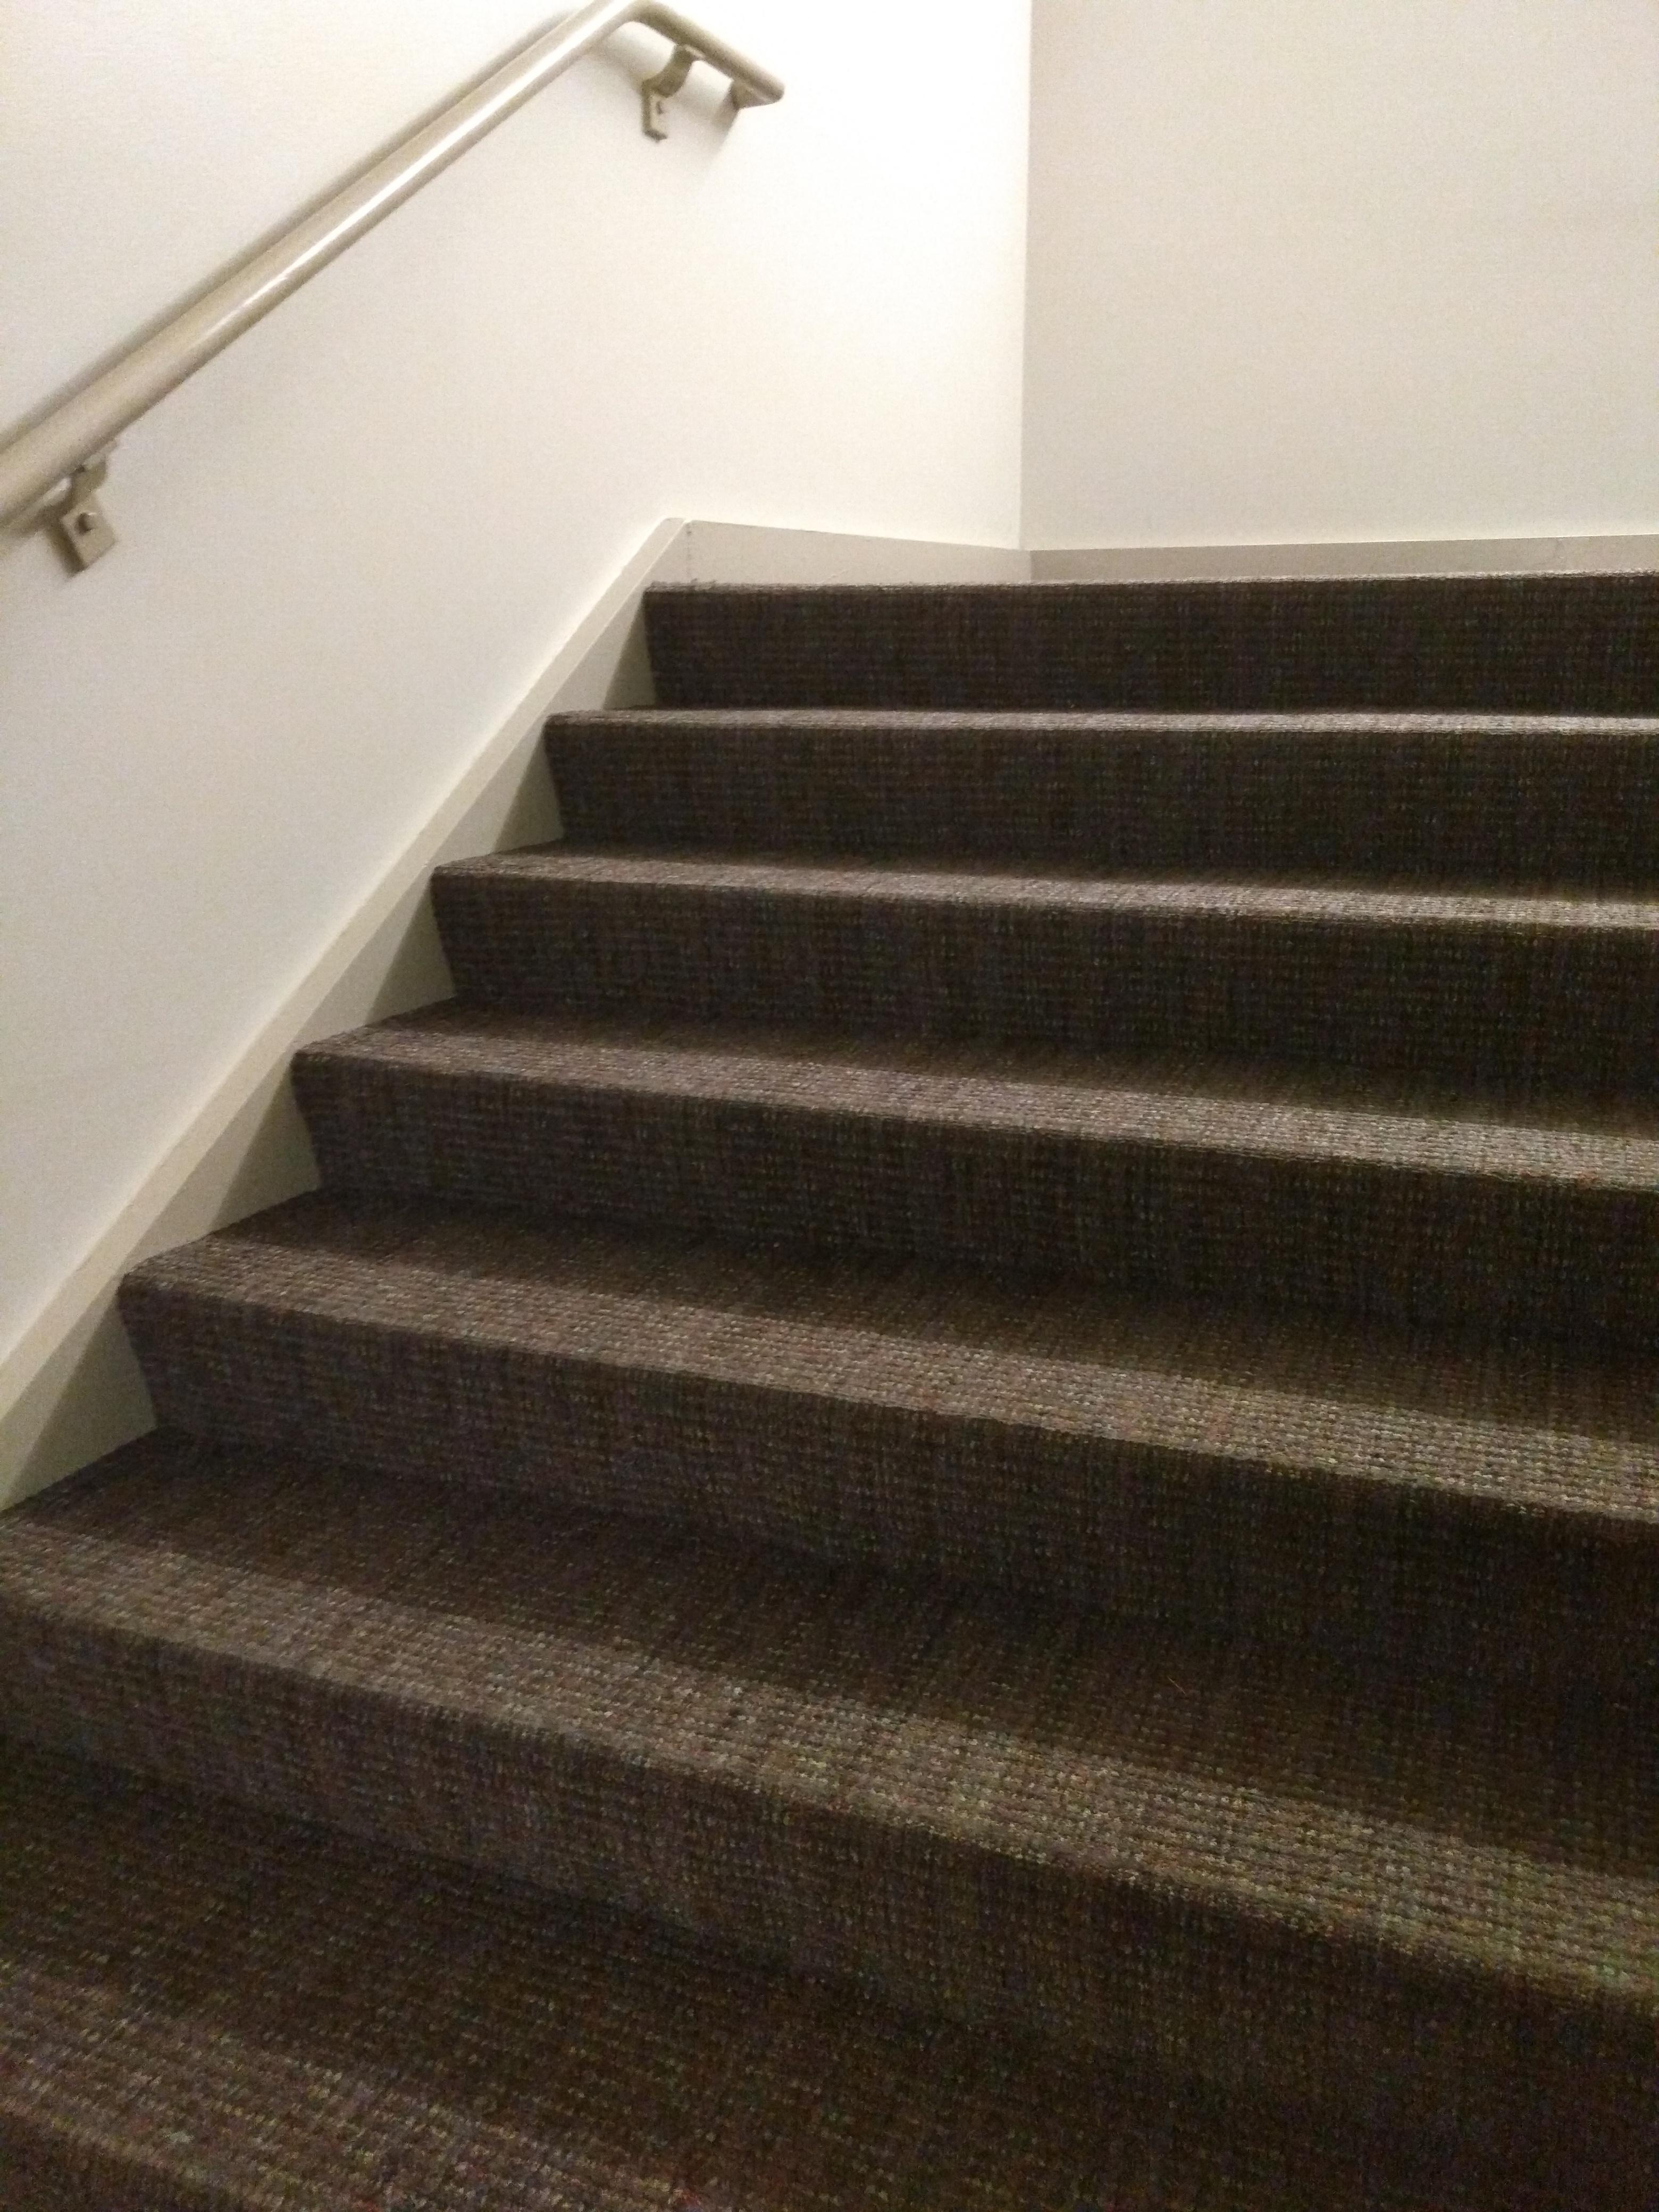stairs_up: (28, 535, 1659, 2052)
